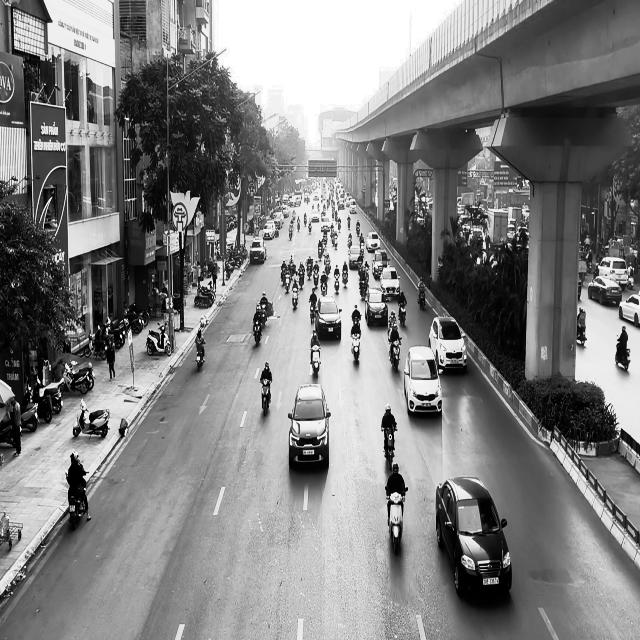car: (435, 476, 512, 598), (287, 382, 331, 468), (403, 345, 442, 415), (428, 316, 467, 374), (315, 295, 342, 340), (588, 275, 622, 306), (364, 287, 388, 326), (618, 292, 640, 327), (380, 266, 400, 298), (249, 238, 267, 264)
motorbike: (385, 485, 408, 555), (72, 398, 110, 439), (64, 468, 88, 529), (146, 322, 172, 356), (381, 425, 397, 470), (614, 338, 630, 371), (388, 337, 402, 372), (260, 377, 272, 416), (310, 342, 321, 377), (350, 332, 361, 362), (196, 341, 206, 371), (252, 318, 262, 346), (417, 284, 426, 310), (398, 302, 406, 326), (309, 300, 317, 324)
